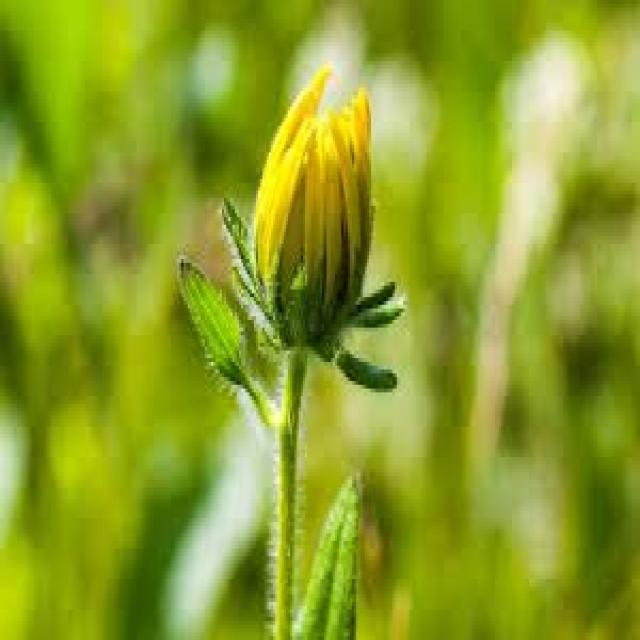Unbloomed: (250, 57, 376, 343)
